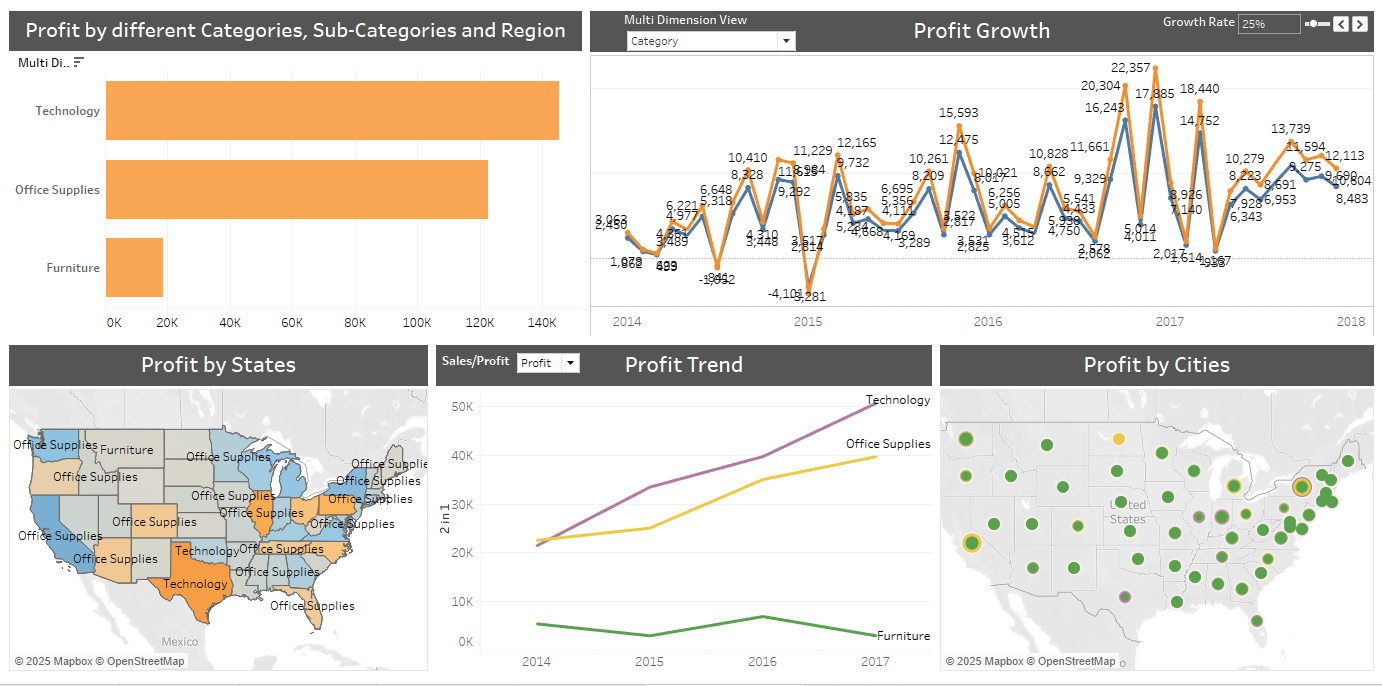

Layout of this report page (visuals, bound fields, positions):
{"tool":"tableau","page":{"name":"Superstore Dashboard","canvas":[1000,1000],"units":"permille","ordinal":0},"visuals":[{"type":"worksheet","title":"Sales/Profit by Different Aspects","mark":"Automatic","rows":["Calculation_827536486978531328"],"cols":["Calculation_827536487000260609"],"box":[8.1,15.3,416.3,484.7]},{"type":"worksheet","title":"Sales/Profit Change","mark":"Automatic","rows":["Calculation_827536487000260609","Calculation_827536487007801346"],"cols":["Order Date"],"box":[424.4,15.3,567.5,484.7]},{"type":"parameter","param":"[Parameters].[Parameter 1]","box":[451.4,17.5,126,62.9]},{"type":"parameter","param":"[Parameters].[Parameter 3]","box":[839.5,17.5,149.8,57]},{"type":"worksheet","title":"Sales/Proft by States","mark":"Automatic","box":[8.1,500,305.6,484.7]},{"type":"worksheet","title":"Sales/Profit Trend","mark":"Automatic","rows":["Calculation_827536487000260609"],"cols":["Order Date"],"box":[313.7,500,361.5,484.7]},{"type":"worksheet","title":"Sales/Profit by Cities","mark":"Automatic","box":[675.2,500,316.7,484.7]},{"type":"parameter","param":"[Parameters].[Parameter 2]","box":[320.4,513.2,101.5,40.9]}]}

Visuals, with their boxes on the dashboard's canvas, which has no fixed pixel size, in thousandths of its width and height (x1, y1, x2, y2). These are canvas units, not pixel positions in the 1382x686 screenshot, which may show the page scaled, cropped or inside an application window:
"Sales/Profit by Different Aspects" worksheet: <bbox>8, 15, 424, 500</bbox>
"Sales/Profit Change" worksheet: <bbox>424, 15, 992, 500</bbox>
parameter: <bbox>451, 18, 577, 80</bbox>
parameter: <bbox>840, 18, 989, 74</bbox>
"Sales/Proft by States" worksheet: <bbox>8, 500, 314, 985</bbox>
"Sales/Profit Trend" worksheet: <bbox>314, 500, 675, 985</bbox>
"Sales/Profit by Cities" worksheet: <bbox>675, 500, 992, 985</bbox>
parameter: <bbox>320, 513, 422, 554</bbox>
